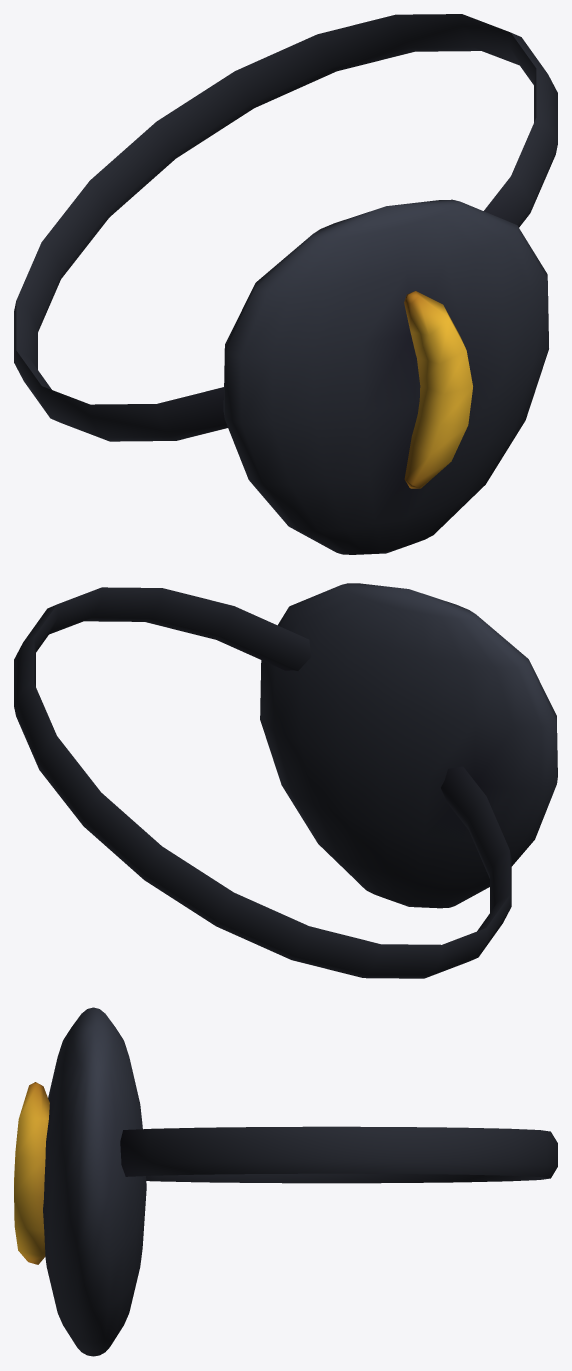
Rendered from eyepatch.glb.
The picture shows the model from 3 angles, top to bottom: view 1: azimuth 30°, elevation 25°; view 2: azimuth 150°, elevation 25°; view 3: azimuth 270°, elevation 25°; orthographic projection. The views are drawn at different scales.
Visible parts, largest first — view 1: eyepatch; view 2: eyepatch; view 3: eyepatch.
Boxes of the visible parts, x1,y1,x2,y2 form: eyepatch: (14, 14, 557, 554); eyepatch: (14, 583, 557, 978); eyepatch: (14, 1007, 557, 1356).
Bounding box in the file's own units: 0.1656 × 0.1173 × 0.1736.
